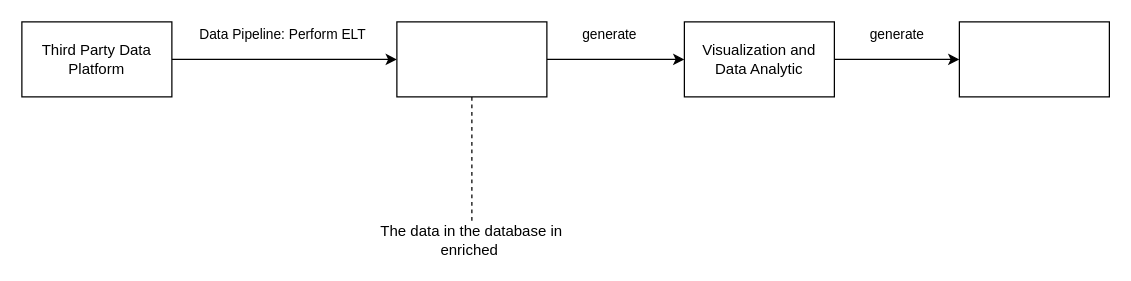
This 1131x281 diagram has some shape labels left out. The centre of each missing label's shape, as x and y in pixels:
"ACME 's database" belongs at [471,59].
"Insights" belongs at [1033,59].
